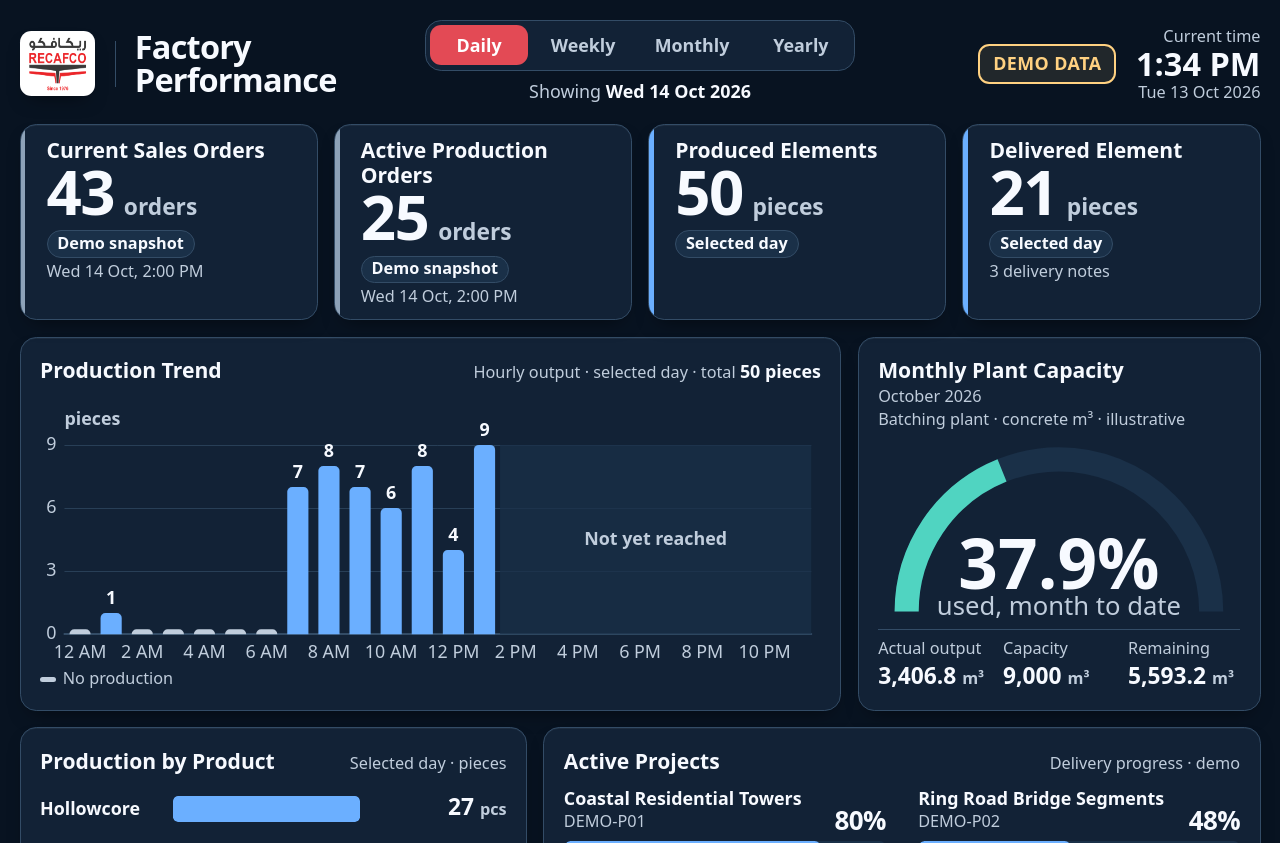
Test: period switching › ignores an out-of-order response after the user returns to the shown period
Click the button "Monthly": coordinates (692, 45) top-left (638, 25), bottom-right (746, 65)
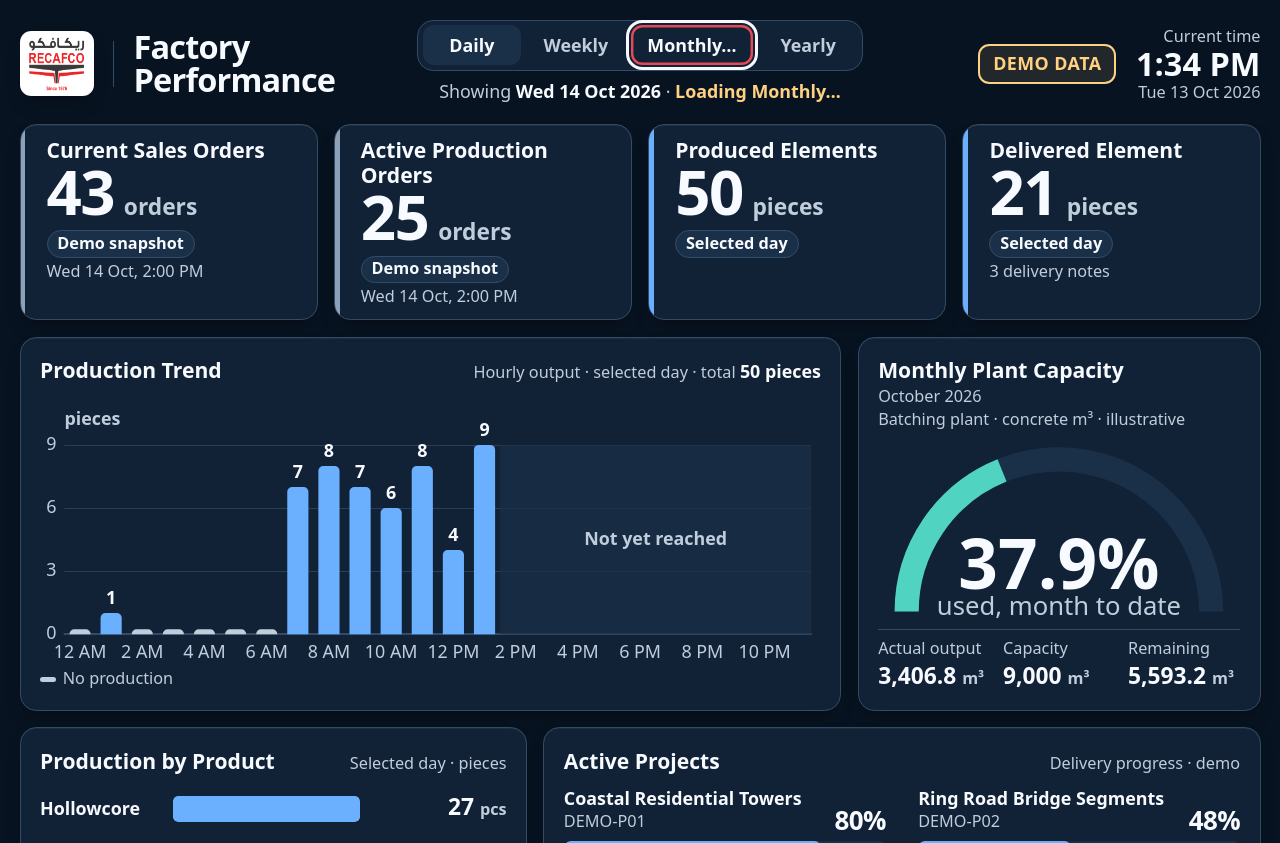
Click the button "Daily": coordinates (472, 45) top-left (423, 25), bottom-right (521, 65)
(page scrolled)
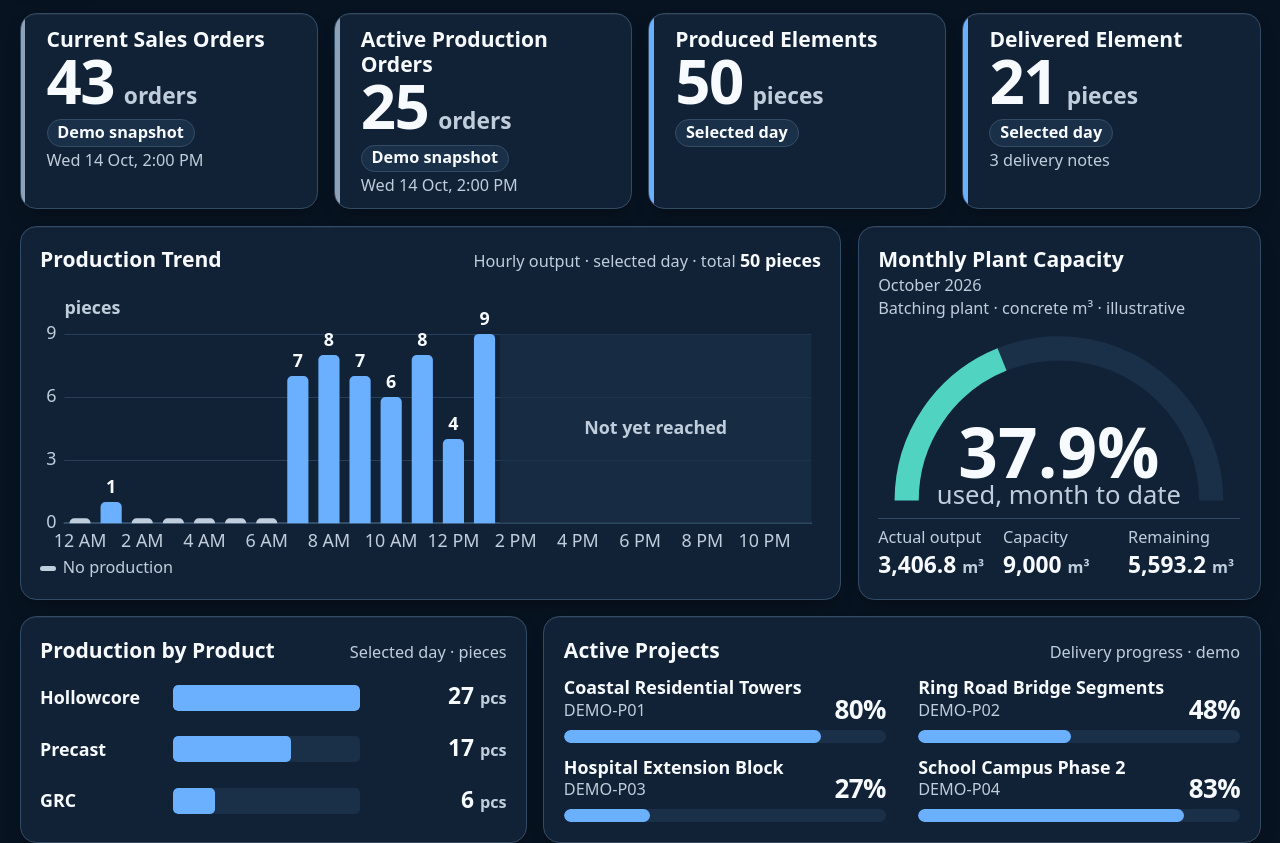
expect the text "50" is shown: met, box top-left (675, 50), bottom-right (743, 112)
expect the text "Loading" is gone: met
